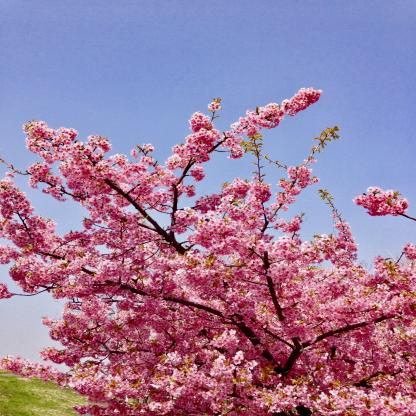YaeSakura: (1, 84, 416, 416)
